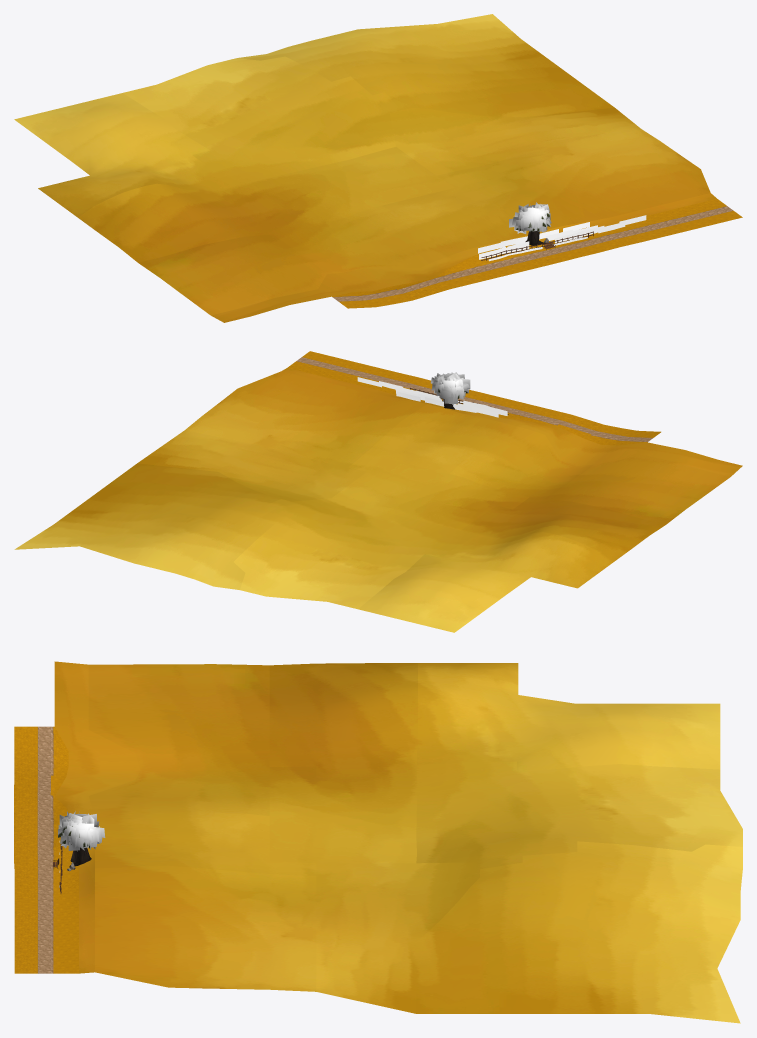
The model's file is ta_outside.fbx.
The picture shows the model from 3 angles, top to bottom: view 1: azimuth 30°, elevation 25°; view 2: azimuth 150°, elevation 25°; view 3: azimuth 270°, elevation 25°; orthographic projection. The views are drawn at different scales.
Parts seen in each view (by area): view 1: Plane.016, Plane.017, Cylinder; view 2: Plane.016, Plane.017, Cylinder; view 3: Plane.016, Cylinder.
Part boxes in pixels (box(x1,y1,x2,y2)): Plane.016: box(14, 14, 742, 322); Plane.017: box(478, 215, 646, 261); Cylinder: box(509, 202, 551, 246); Plane.016: box(14, 351, 742, 632); Plane.017: box(357, 377, 507, 417); Cylinder: box(430, 372, 470, 409); Plane.016: box(14, 661, 742, 1023); Cylinder: box(58, 811, 105, 867).
Size of the model in its own units: 8655 by 887 by 8064.
